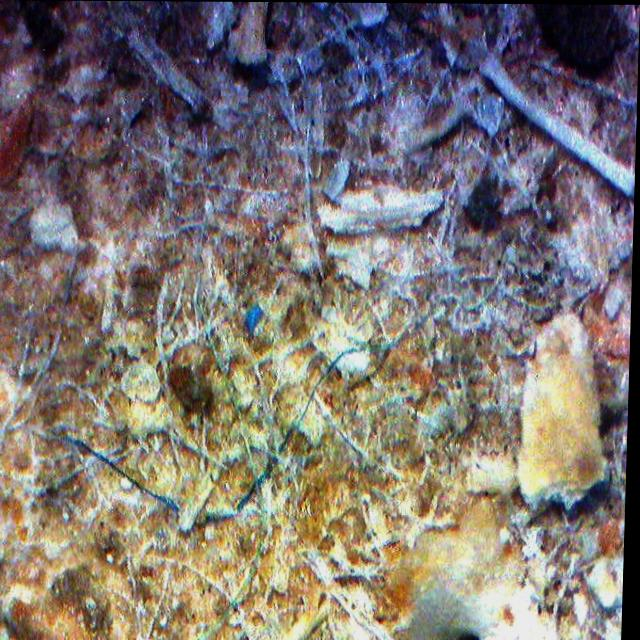microplastic: (64, 315, 470, 563), (240, 300, 268, 337)
